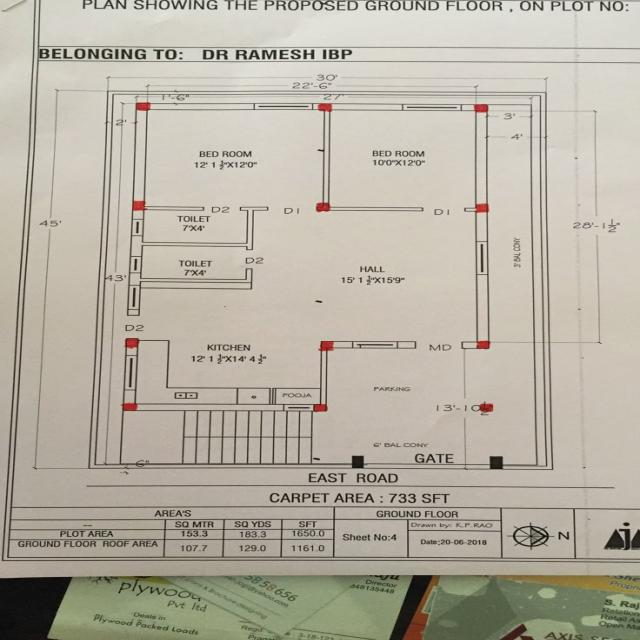column: (312, 339, 340, 354), (126, 198, 152, 213), (120, 335, 145, 350), (129, 100, 155, 113), (310, 201, 336, 214), (471, 101, 493, 116), (474, 402, 497, 416), (309, 401, 332, 414), (118, 402, 142, 414), (470, 202, 492, 214), (314, 102, 337, 113), (472, 339, 493, 351)
